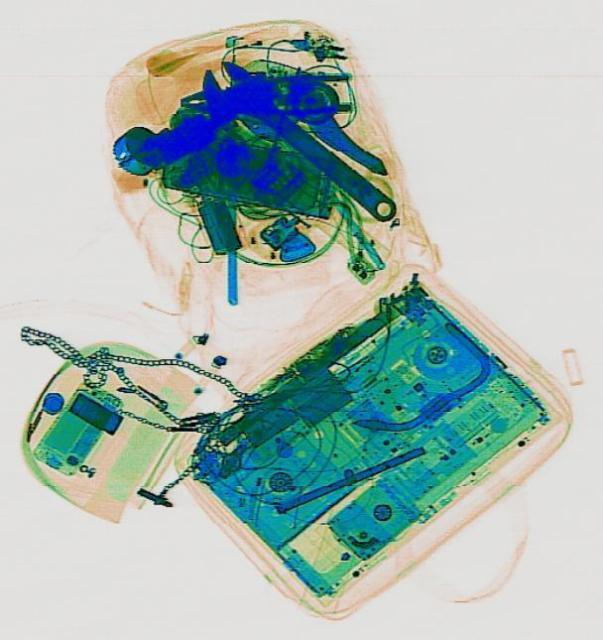Pliers: (178, 72, 351, 120)
Wrench: (188, 49, 403, 238)
